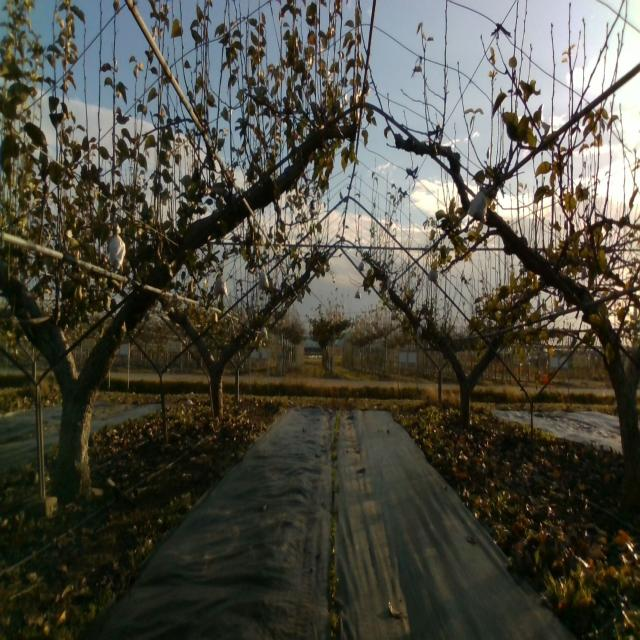pearbags: (108, 224, 126, 272), (466, 189, 488, 225), (213, 274, 230, 298), (258, 266, 271, 290)
